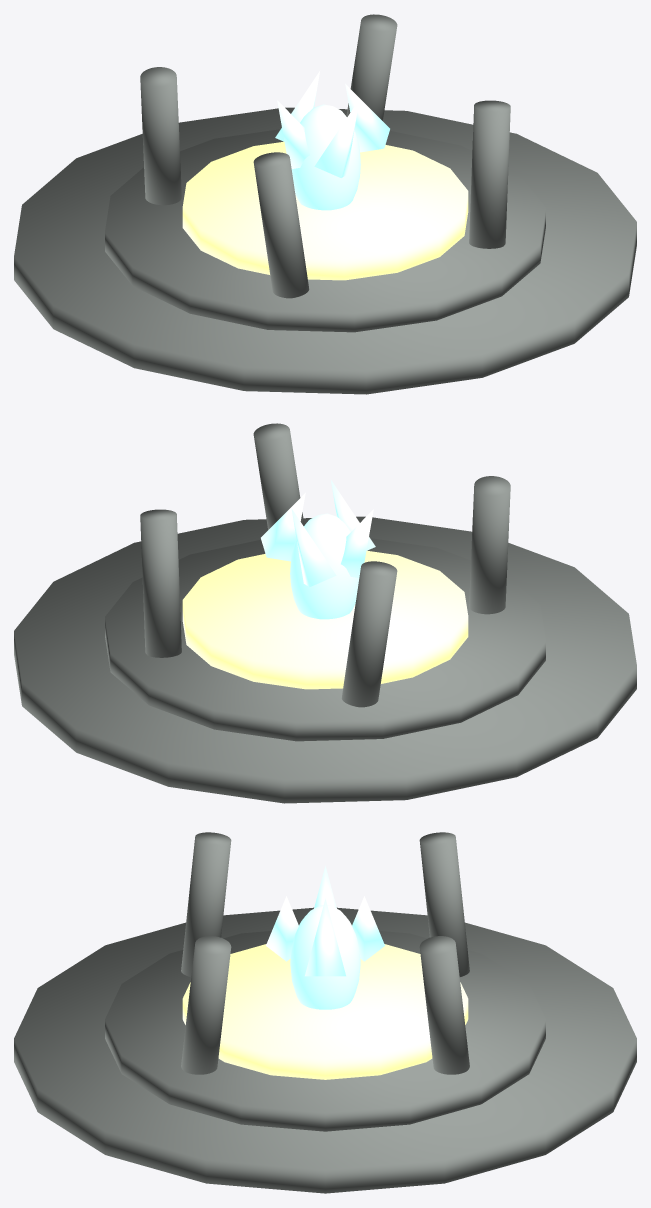
The model's file is structure_first_sprout_monument.glb.
3 renders of one model, top to bottom at view 1: azimuth 30°, elevation 25°; view 2: azimuth 150°, elevation 25°; view 3: azimuth 270°, elevation 25°, orthographic.
Visible parts, largest first — view 1: Sacred_Terrace_1, Sacred_Terrace_2, Primal_Water_Basin, Guardian_Pillar_4, Guardian_Pillar_3, Guardian_Pillar_2, Primal_Sprout_Core, Guardian_Pillar_1, Radiant_Leaf_4, Radiant_Leaf_1, Radiant_Leaf_3, Radiant_Leaf_2; view 2: Sacred_Terrace_1, Sacred_Terrace_2, Primal_Water_Basin, Guardian_Pillar_1, Guardian_Pillar_2, Guardian_Pillar_3, Primal_Sprout_Core, Guardian_Pillar_4, Radiant_Leaf_2, Radiant_Leaf_1, Radiant_Leaf_3, Radiant_Leaf_4; view 3: Sacred_Terrace_1, Sacred_Terrace_2, Primal_Water_Basin, Guardian_Pillar_1, Guardian_Pillar_4, Primal_Sprout_Core, Guardian_Pillar_2, Guardian_Pillar_3, Radiant_Leaf_1, Radiant_Leaf_2, Radiant_Leaf_4.
Boxes of the visible parts, x1,y1,x2,y2 form: Sacred_Terrace_1: (14,107,636,394); Sacred_Terrace_2: (105,129,545,332); Primal_Water_Basin: (182,141,468,280); Guardian_Pillar_4: (469,100,510,248); Guardian_Pillar_3: (253,152,309,298); Guardian_Pillar_2: (140,67,181,205); Primal_Sprout_Core: (291,104,360,210); Guardian_Pillar_1: (346,14,397,120); Radiant_Leaf_4: (314,99,359,177); Radiant_Leaf_1: (345,83,389,152); Radiant_Leaf_3: (277,100,309,168); Radiant_Leaf_2: (275,71,319,141); Sacred_Terrace_1: (14,516,636,803); Sacred_Terrace_2: (105,538,545,741); Primal_Water_Basin: (182,550,468,689); Guardian_Pillar_1: (140,509,181,657); Guardian_Pillar_2: (341,561,397,707); Guardian_Pillar_3: (469,476,510,614); Primal_Sprout_Core: (290,513,359,619); Guardian_Pillar_4: (253,423,304,529); Radiant_Leaf_2: (291,508,336,586); Radiant_Leaf_1: (261,492,305,561); Radiant_Leaf_3: (341,509,373,577); Radiant_Leaf_4: (331,480,375,550); Sacred_Terrace_1: (14,907,636,1193); Sacred_Terrace_2: (105,931,545,1131); Primal_Water_Basin: (182,944,468,1079); Guardian_Pillar_1: (419,936,469,1074); Guardian_Pillar_4: (181,936,231,1074); Primal_Sprout_Core: (290,905,360,1009); Guardian_Pillar_2: (419,832,469,976); Guardian_Pillar_3: (181,832,231,976); Radiant_Leaf_1: (305,898,345,976); Radiant_Leaf_2: (352,896,384,961); Radiant_Leaf_4: (266,896,298,961).
Size of the model in its own units: 24 by 7.36 by 24.
